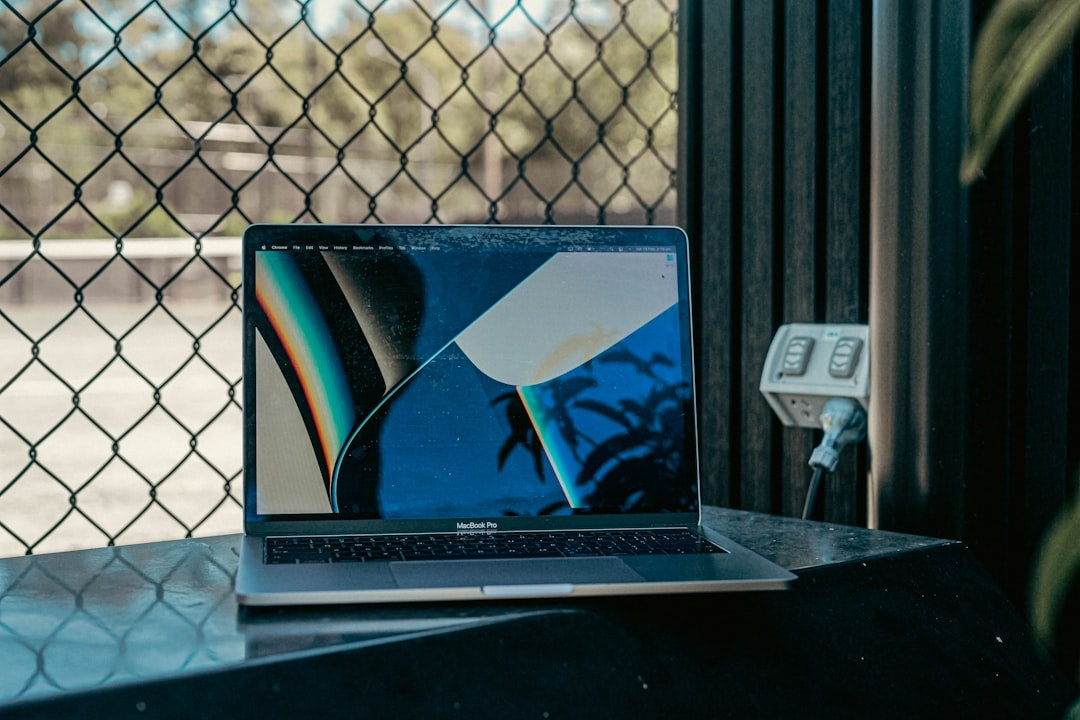laptop: (209, 211, 822, 622)
